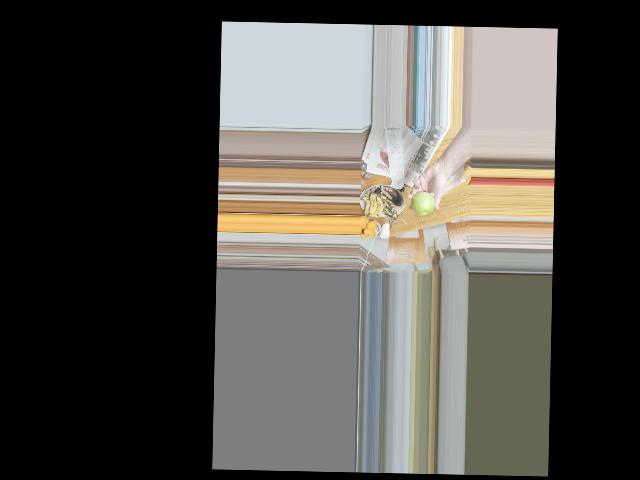apple: (410, 189, 435, 216)
